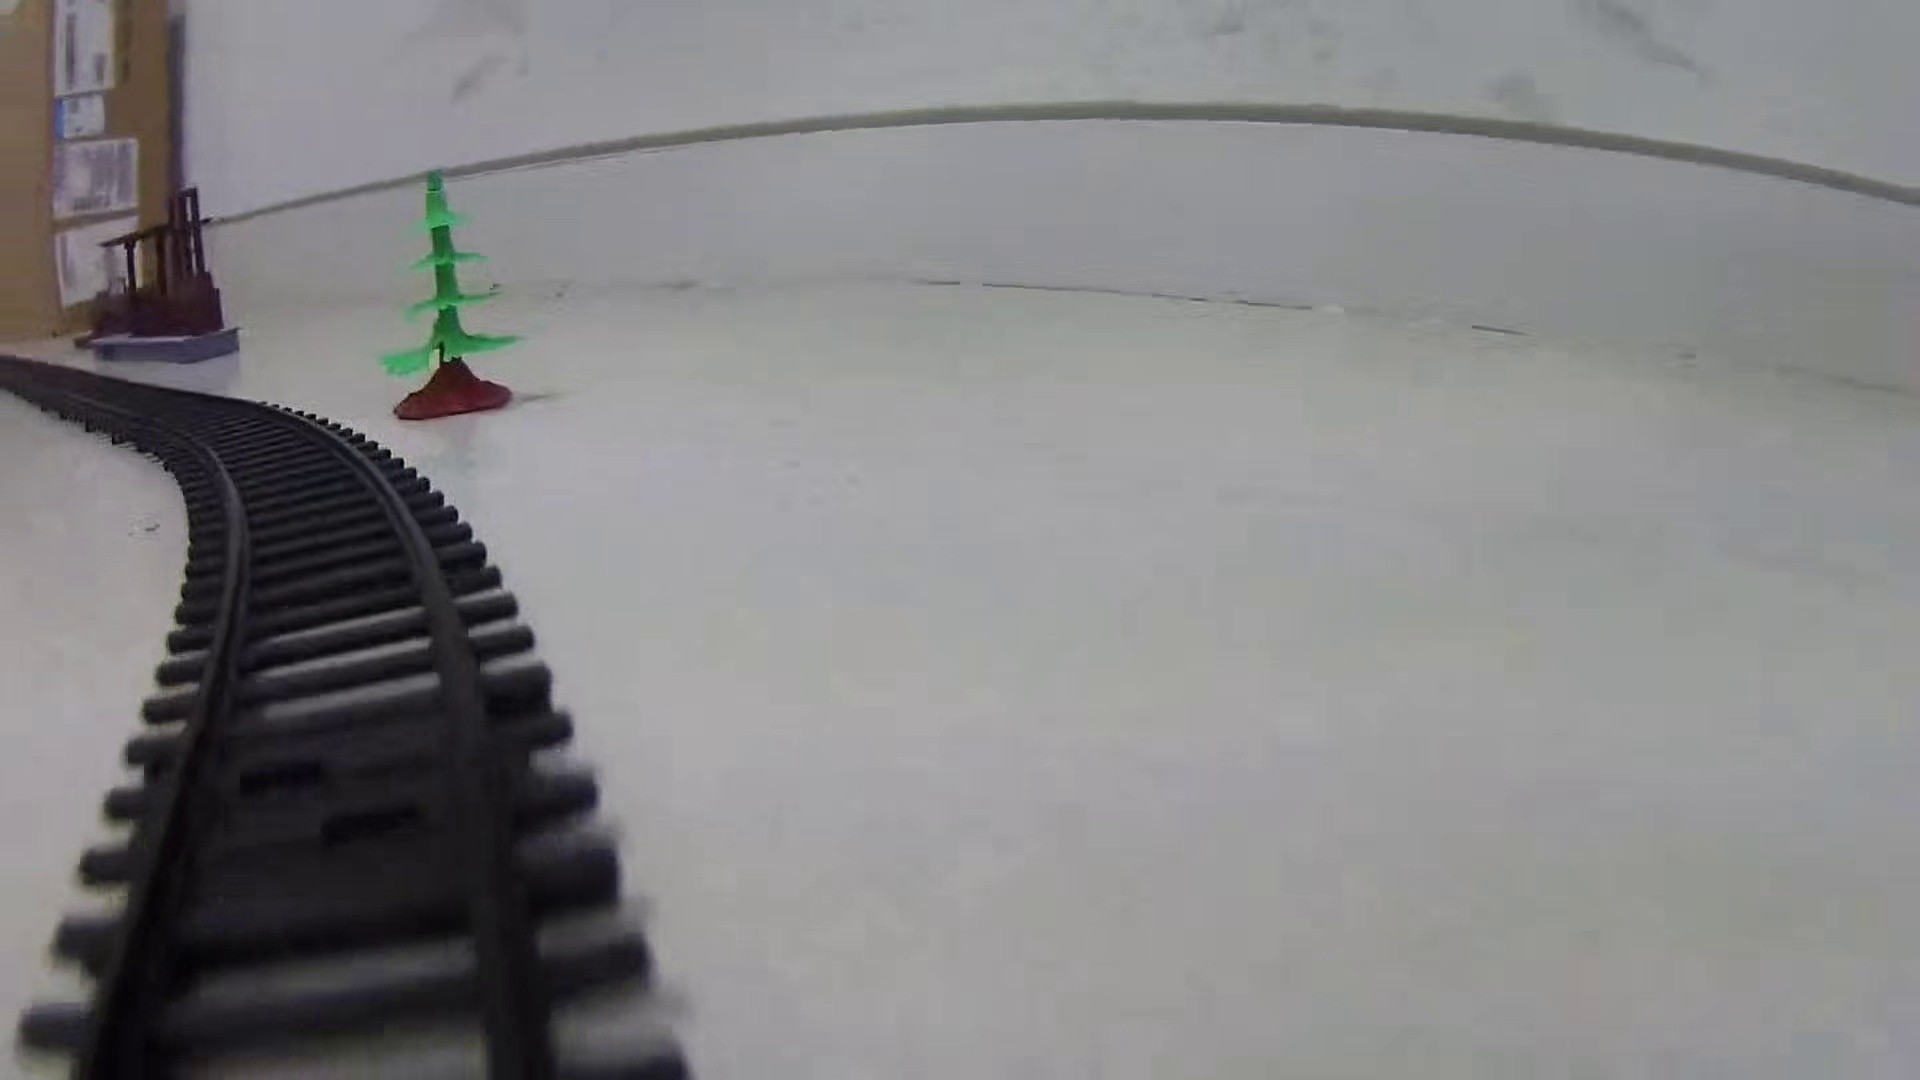tree: (377, 171, 529, 425)
